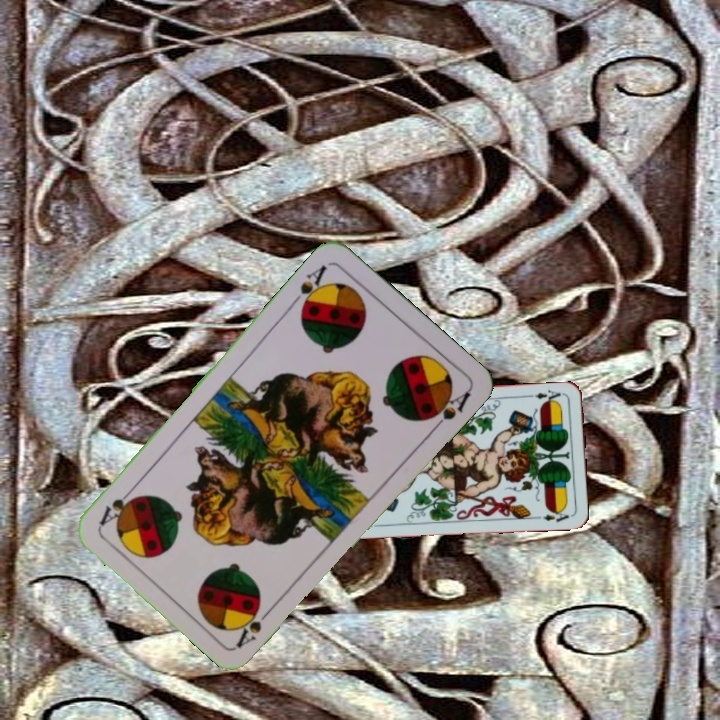EA: (526, 386, 567, 406)
SA: (286, 260, 331, 316), (232, 601, 277, 650)
